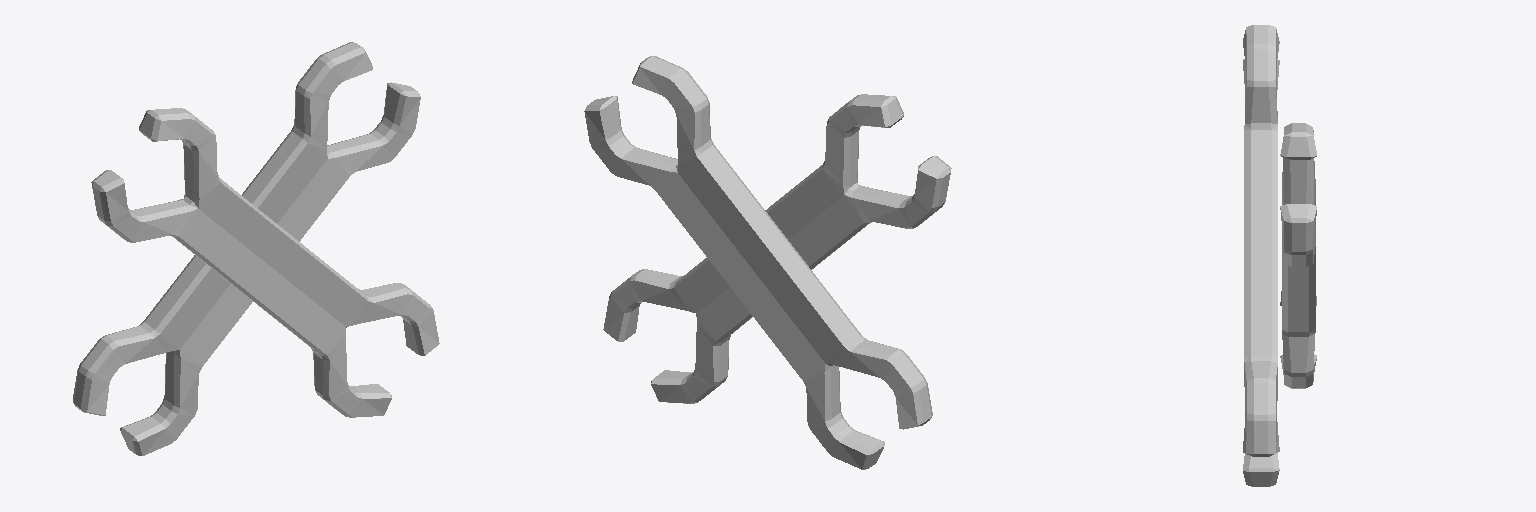
Rendered from repair.obj.
The picture shows the model from 3 angles: view 1: azimuth 30°, elevation 25°; view 2: azimuth 150°, elevation 25°; view 3: azimuth 270°, elevation 25°; orthographic projection.
Size of the model in its own units: 4.96 by 4.96 by 0.9472.